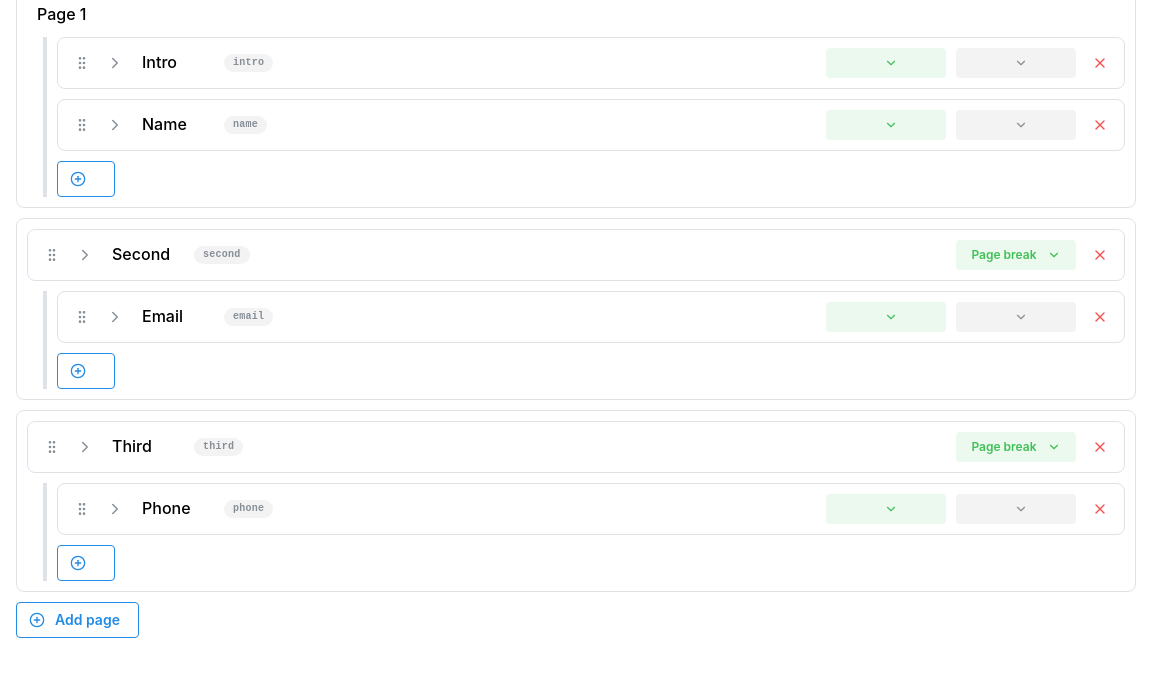
it: sections › addSection adds a button outside the boxes that appends a section
Click the button "Add page".
click(77, 620)  # box [16, 602, 139, 638]
(page scrolled)
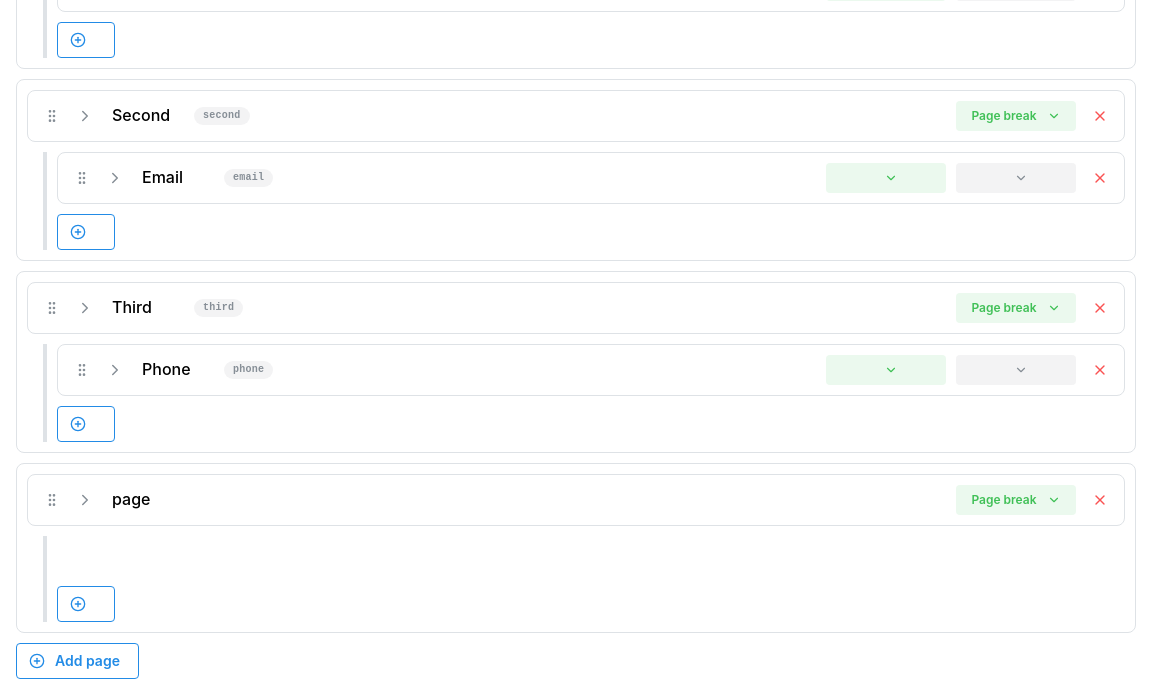
Click the button "Add page".
click(77, 661)  # box [16, 643, 139, 679]
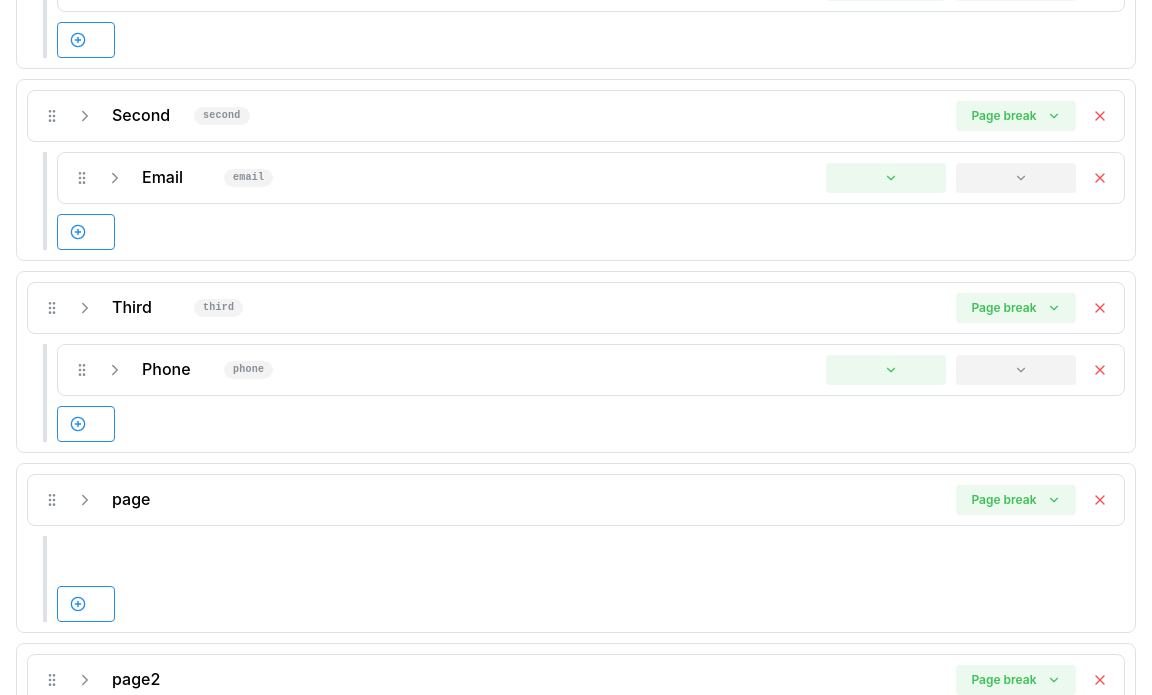
Expected: the text "page2" is shown, [112, 669, 160, 689]
